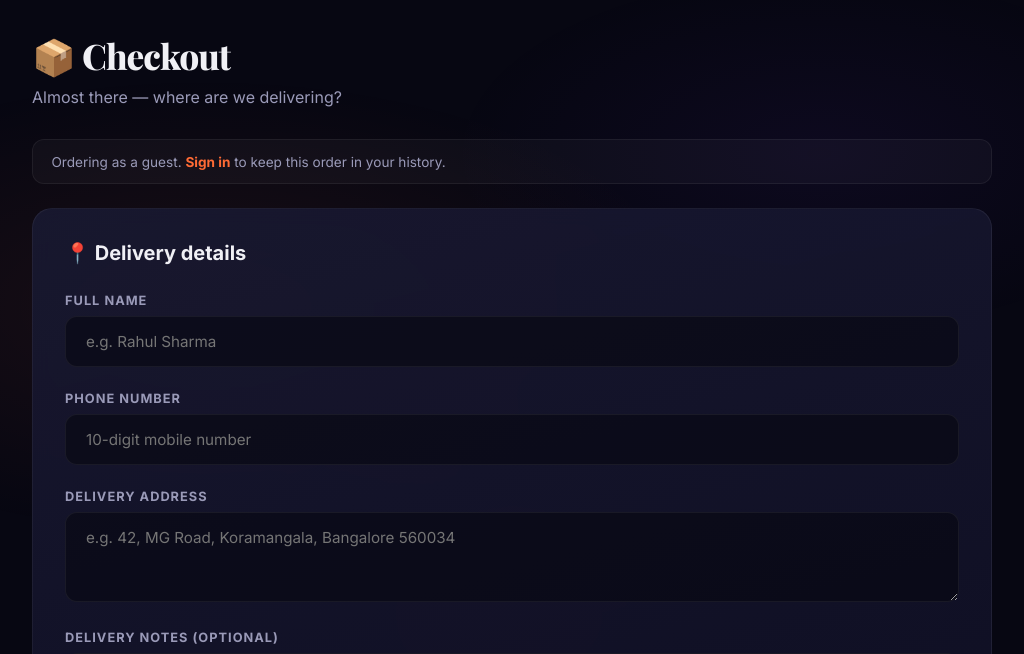
Test: CheckoutPage › maps server field errors back onto the inputs that caused them
The image size is (1024, 654).
Type "Rahul Sharma" into the field labelled "Full name" at [512, 342], box [65,316,959,367]
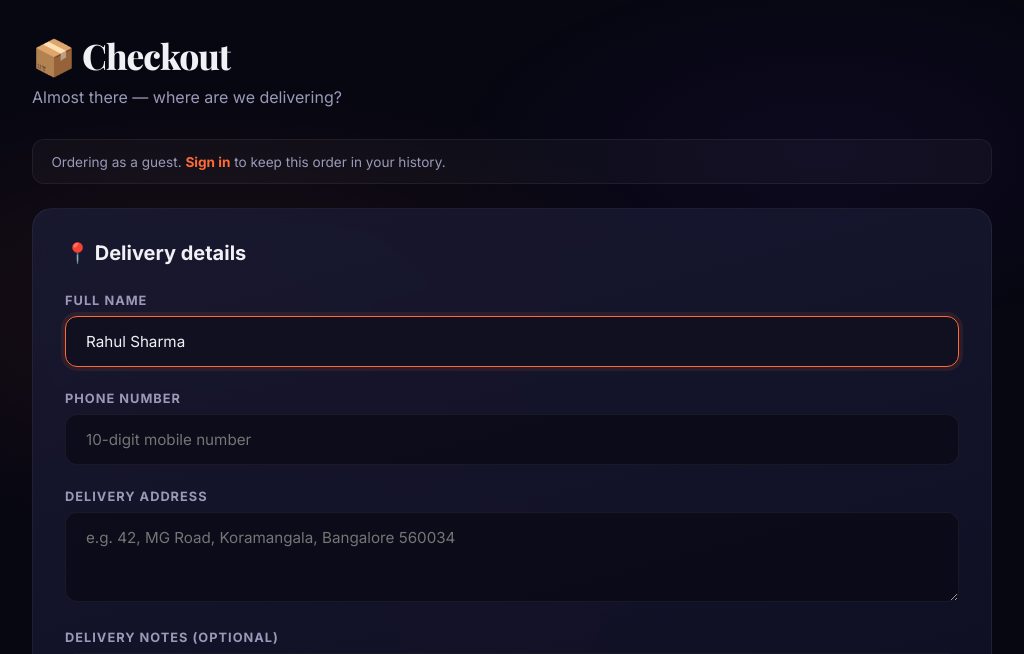
Type "9876543210" into the field labelled "Phone number" at [512, 440], box [65,414,959,465]
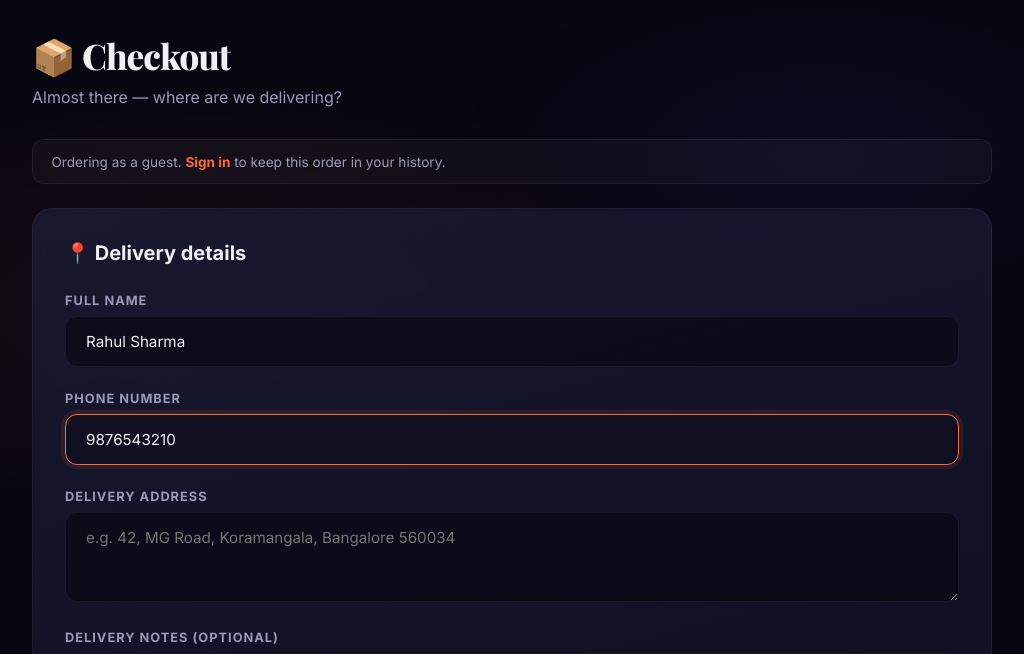
Type "42, MG Road, Koramangala, Bangalore 560034" into the text box labelled "Delivery address" at [512, 557], box [65,512,959,602]
(page scrolled)
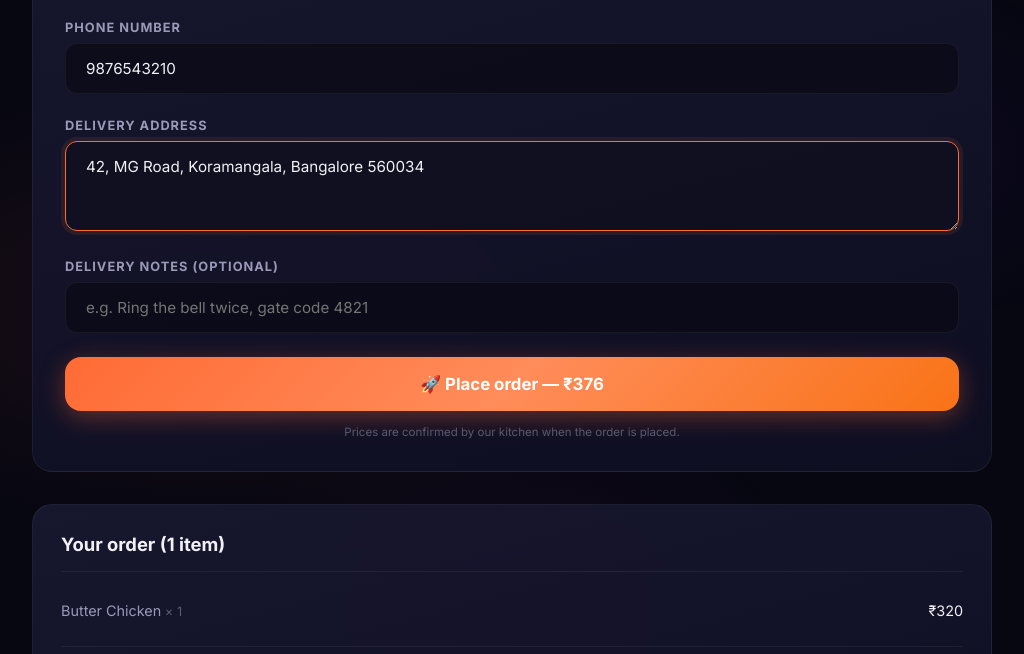
Click the button "🚀 Place order — ₹376" at [512, 384], box [65,357,959,411]
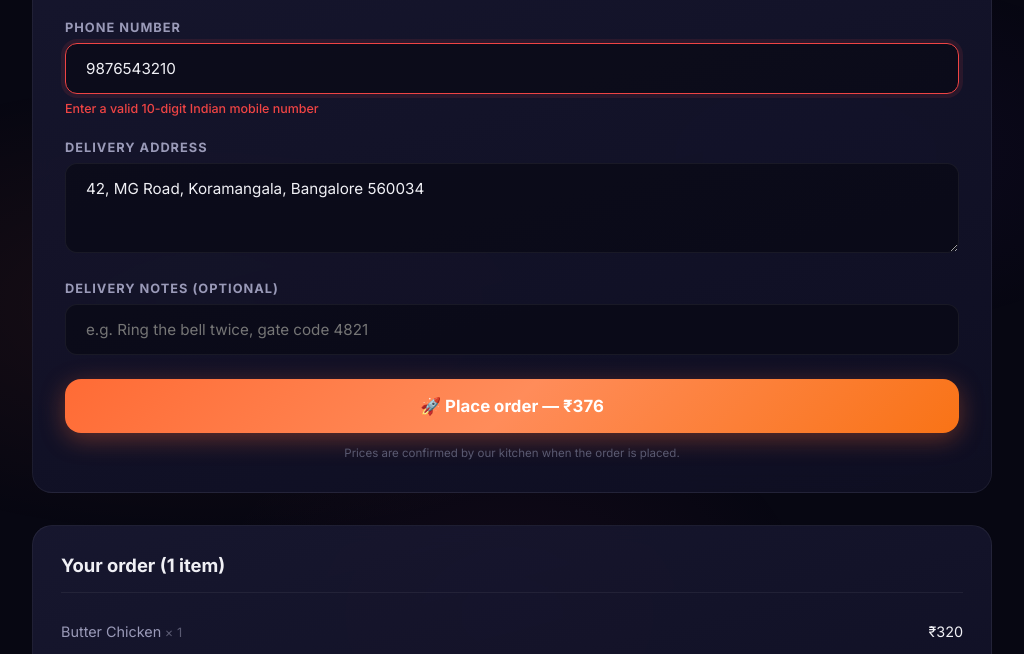
Now the text "Enter a valid 10-digit Indian mobile number" is shown, box [65,101,319,116]
